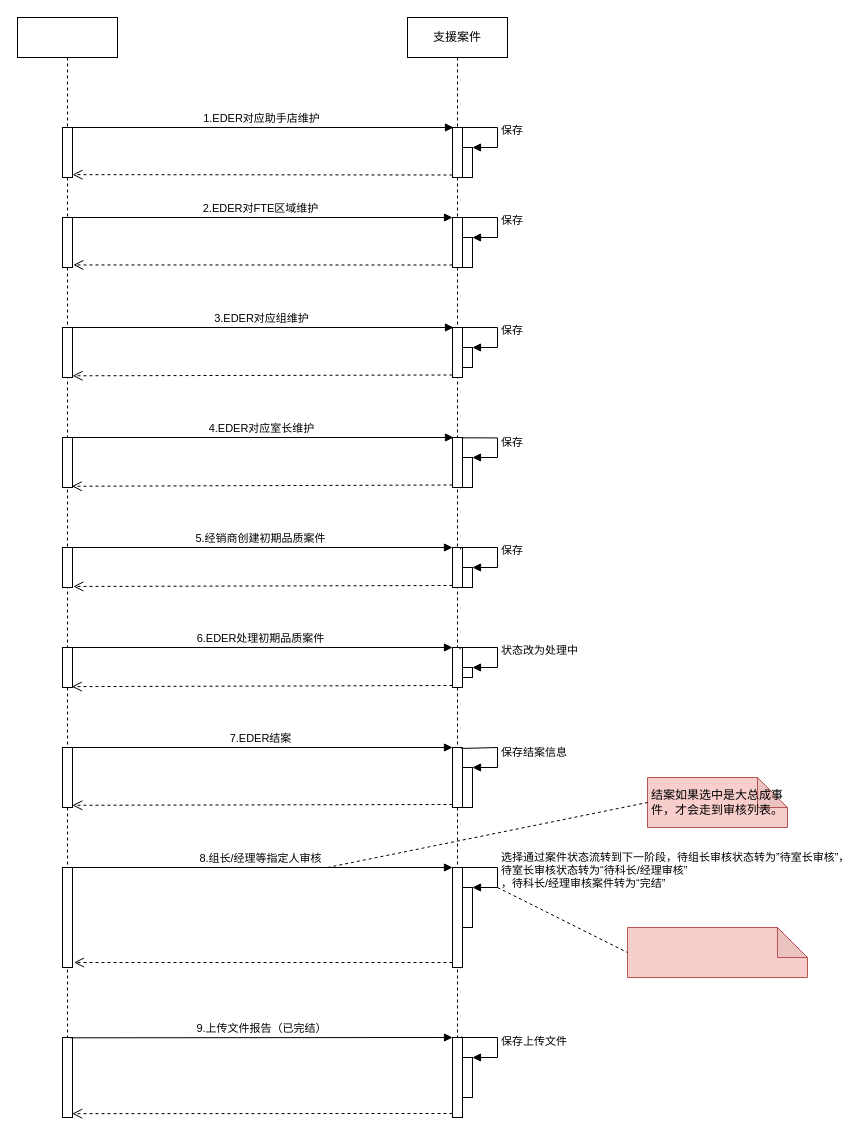
Image size: 867x1142. Some labels were removed from this diagram. Here are the shapes that lost their labels. From the top down, the centre of each, then its label:
At (x=67, y=567): "支援案件前端".
At (x=717, y=952): "如果审核不通过，案件退回销售店，状态为已退回".
